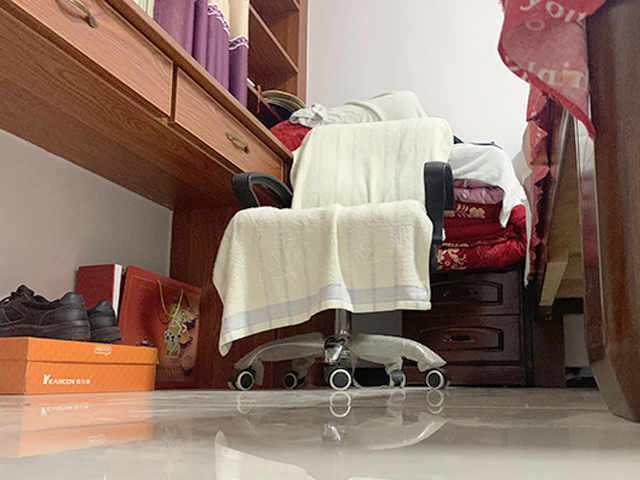bed: (497, 1, 640, 423)
cabinet: (405, 263, 532, 389)
stool: (212, 115, 455, 393)
